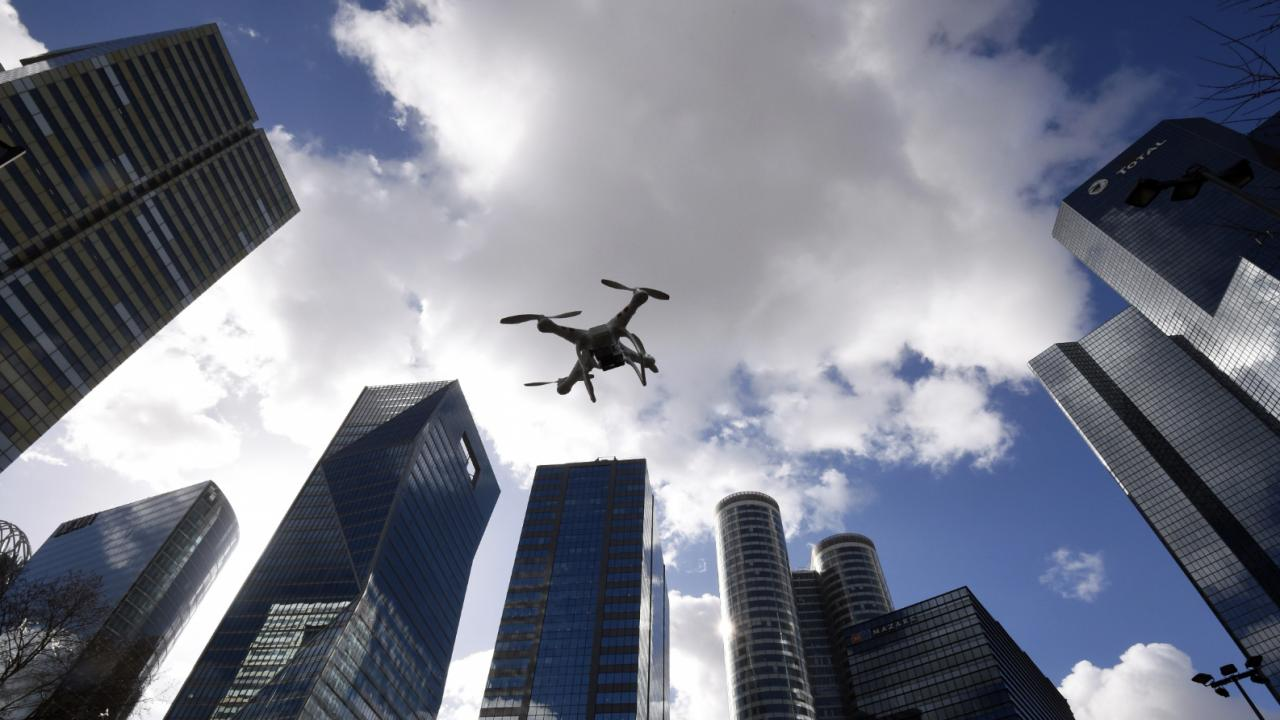Drone: (486, 272, 694, 413)
